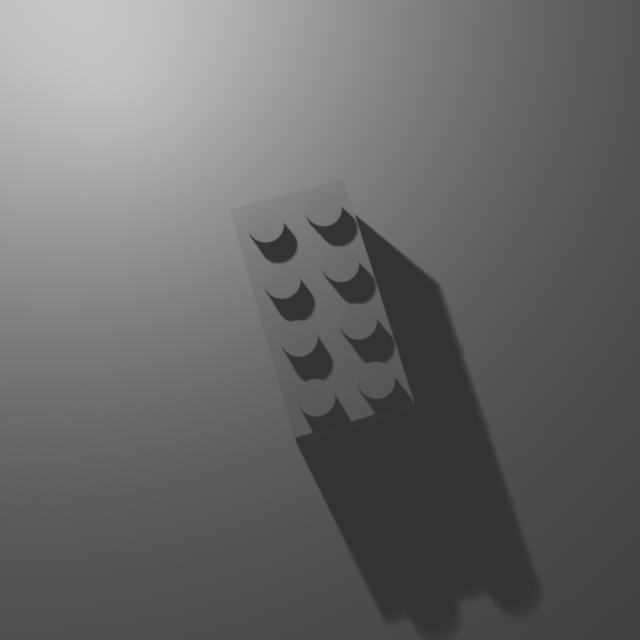lego_2x4: (229, 174, 416, 444)
